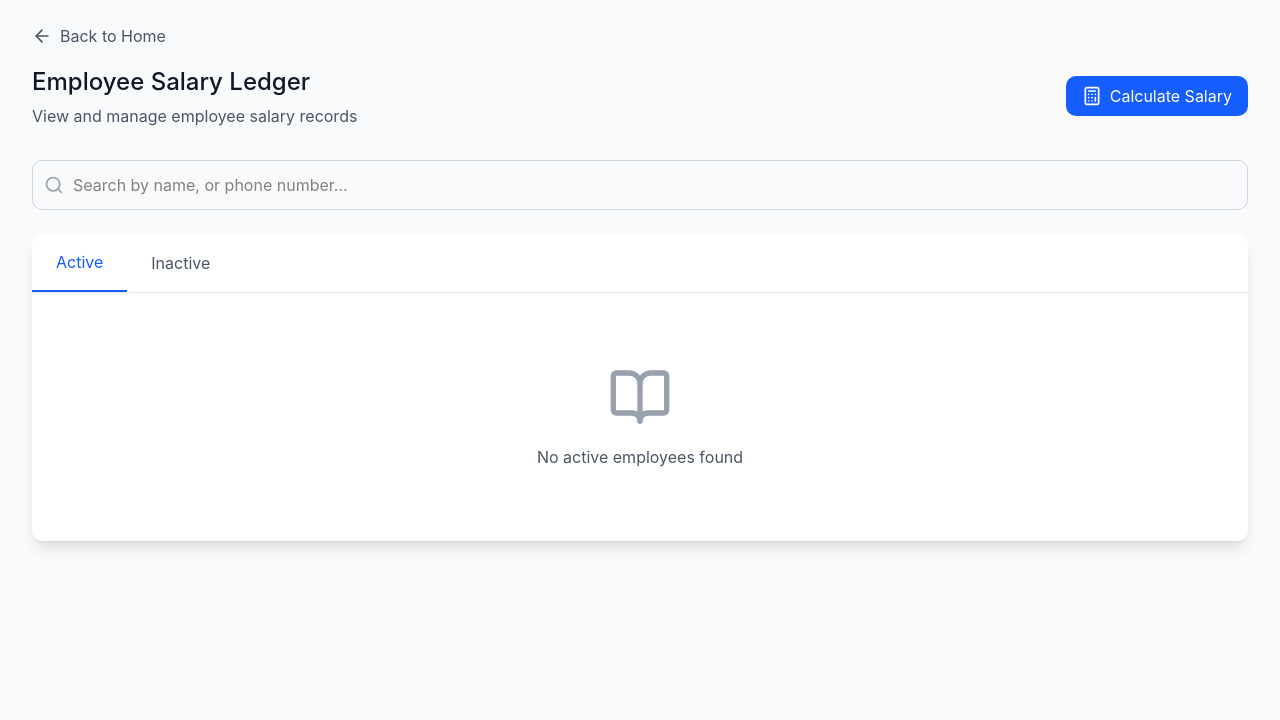
it: SalaryLedgerScreen › the list › says when there are no active or inactive employees
expect the text "No active employees found" is shown: met, box [537,447,743,467]
Click the button "Inactive". click: (181,263)
box: [127,234,234,292]
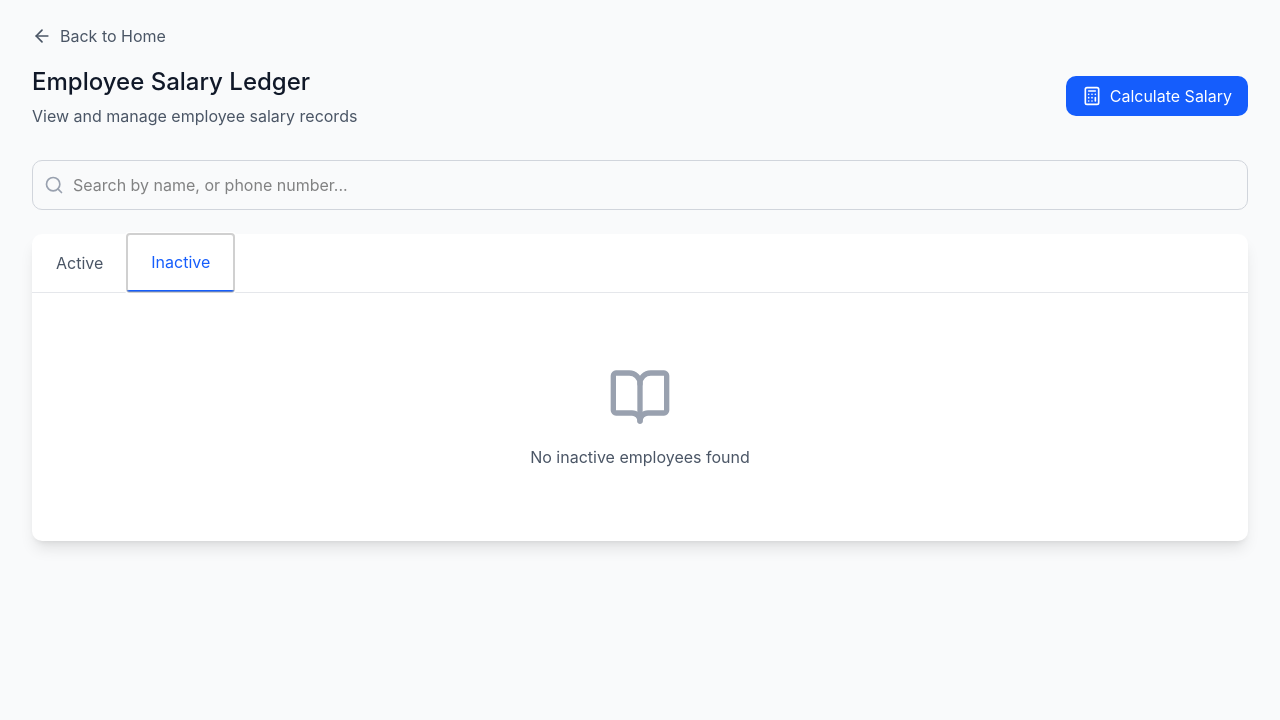
expect the text "No inactive employees found" is shown: met, box [530,447,750,467]
